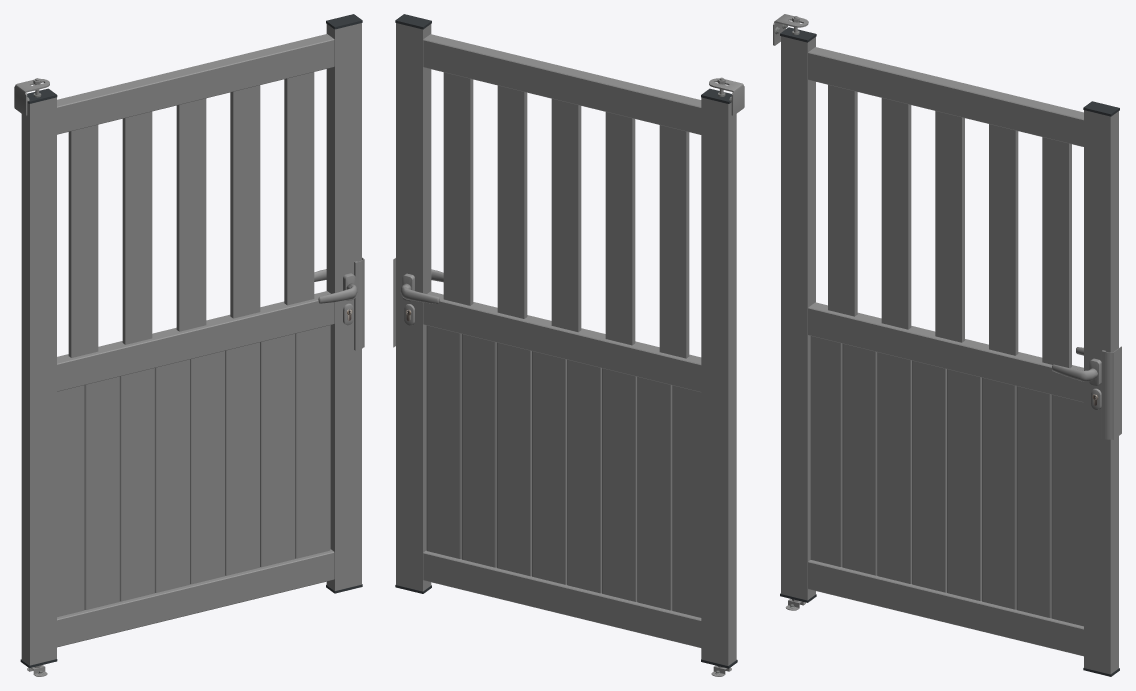
3 views of the same model, side by side, from view 1: azimuth 30°, elevation 25°; view 2: azimuth 150°, elevation 25°; view 3: azimuth 330°, elevation 25° (orthographic).
Visible parts, largest first — view 1: Shape107412643, Shape107412638, Shape164, Shape162, Shape163, Shape127, Shape126, Shape121, Shape125, Shape124, Shape123, Shape122 (+8 smaller); view 2: Shape107412643, Shape107412638, Shape164, Shape162, Shape163, Shape125, Shape126, Shape127, Shape121, Shape122, Shape123, Shape124 (+7 smaller); view 3: Shape107412643, Shape107412638, Shape164, Shape162, Shape163, Shape121, Shape126, Shape122, Shape123, Shape125, Shape124, Shape127 (+7 smaller).
Boxes of the visible parts, left/top/right/bottom form: Shape107412643: left=21, top=97, right=56, bottom=665; Shape107412638: left=326, top=23, right=361, bottom=590; Shape164: left=57, top=34, right=334, bottom=134; Shape162: left=57, top=291, right=334, bottom=391; Shape163: left=57, top=549, right=334, bottom=647; Shape127: left=295, top=325, right=330, bottom=558; Shape126: left=260, top=334, right=295, bottom=567; Shape121: left=84, top=376, right=119, bottom=609; Shape125: left=225, top=342, right=259, bottom=575; Shape124: left=190, top=351, right=224, bottom=584; Shape123: left=155, top=359, right=189, bottom=592; Shape122: left=120, top=368, right=154, bottom=601; Shape107412643: left=701, top=97, right=736, bottom=665; Shape107412638: left=396, top=23, right=431, bottom=591; Shape164: left=423, top=34, right=701, bottom=134; Shape162: left=423, top=291, right=701, bottom=392; Shape163: left=423, top=550, right=701, bottom=647; Shape125: left=496, top=342, right=531, bottom=576; Shape126: left=461, top=334, right=496, bottom=567; Shape127: left=426, top=325, right=461, bottom=558; Shape121: left=637, top=377, right=672, bottom=610; Shape122: left=602, top=368, right=637, bottom=601; Shape123: left=567, top=359, right=601, bottom=593; Shape124: left=532, top=351, right=566, bottom=584; Shape107412643: left=781, top=36, right=815, bottom=600; Shape107412638: left=1084, top=110, right=1118, bottom=674; Shape164: left=808, top=47, right=1083, bottom=146; Shape162: left=808, top=302, right=1083, bottom=402; Shape163: left=808, top=560, right=1083, bottom=656; Shape121: left=842, top=343, right=877, bottom=575; Shape126: left=1016, top=386, right=1051, bottom=617; Shape122: left=877, top=352, right=911, bottom=583; Shape123: left=912, top=360, right=946, bottom=592; Shape125: left=982, top=377, right=1016, bottom=609; Shape124: left=947, top=369, right=981, bottom=600; Shape127: left=1051, top=395, right=1083, bottom=626.
Size of the model in its own units: 1015 by 1688 by 152.
7 materials, 4 textured.
